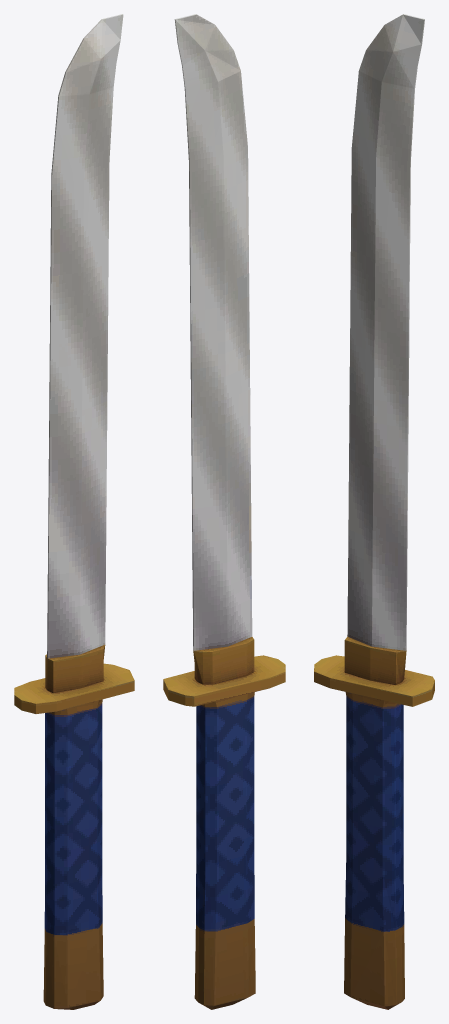
File: item_katana_big.glb
3 renders of one model, left to right at view 1: azimuth 30°, elevation 25°; view 2: azimuth 210°, elevation 25°; view 3: azimuth 330°, elevation 25°, orthographic.
Visible parts, largest first — view 1: Katana_A; view 2: Katana_A; view 3: Katana_A.
Boxes of the visible parts, <box> form: Katana_A: <box>14,14,134,1009</box>; Katana_A: <box>163,14,285,1009</box>; Katana_A: <box>314,14,434,1009</box>.
Bounding box in the file's own units: 0.1562 × 1.31 × 0.0644.
Materials: 1 (1 with a texture image).
